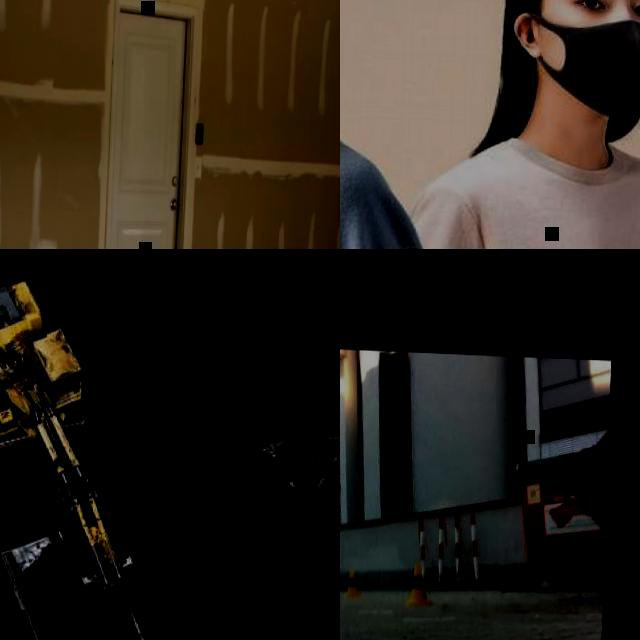machinery: (0, 264, 162, 597), (0, 515, 168, 640)
mask: (513, 9, 640, 122)
no_vest: (450, 149, 640, 249)
person: (398, 0, 640, 249), (340, 0, 465, 249)
safety_cone: (406, 564, 434, 606), (344, 571, 360, 596)
